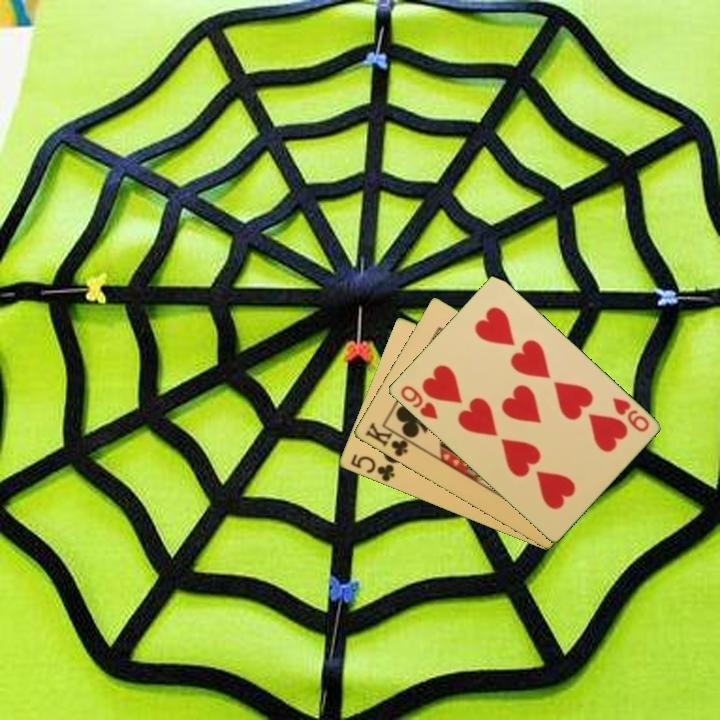5c: (347, 450, 398, 485)
9h: (397, 382, 441, 423), (608, 394, 652, 435)
Kc: (361, 419, 417, 460)
